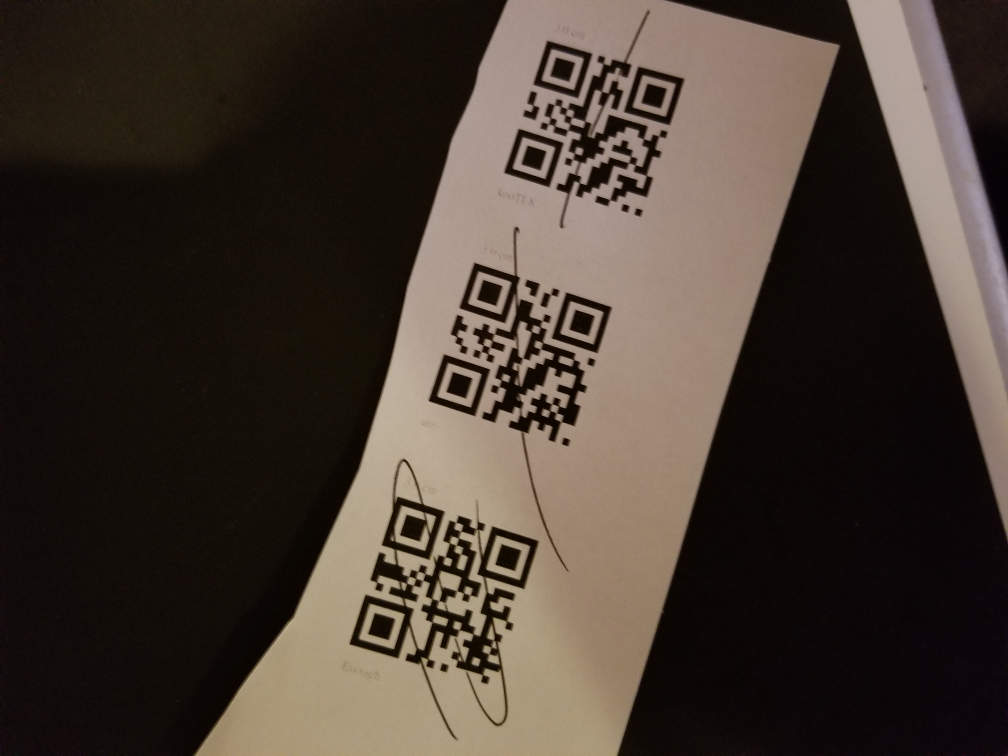QR_CODE: (336, 478, 548, 694), (420, 249, 620, 456), (497, 31, 697, 232)
